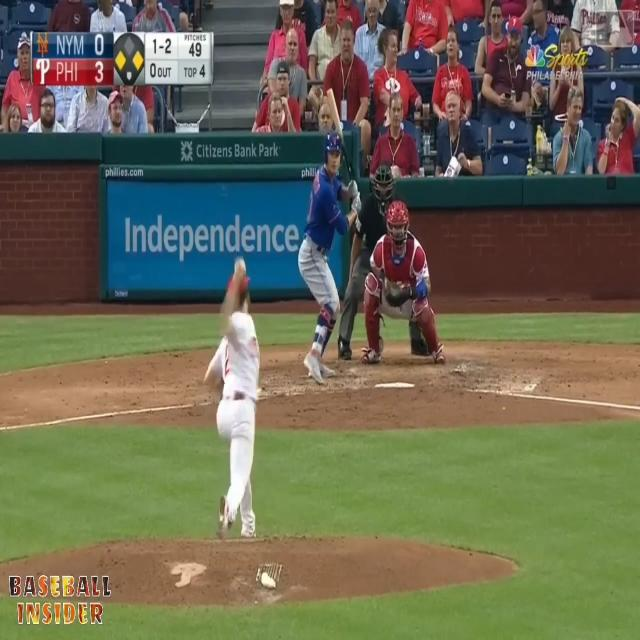baseball: (238, 258, 246, 274)
